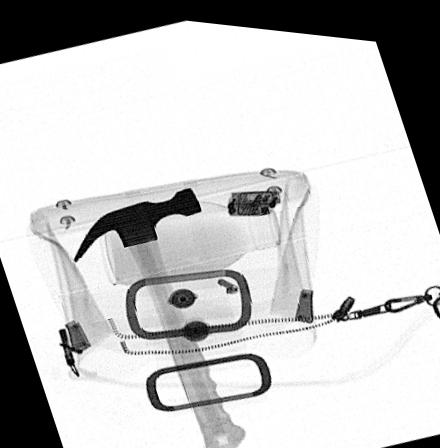Hammer: (70, 181, 245, 448)
